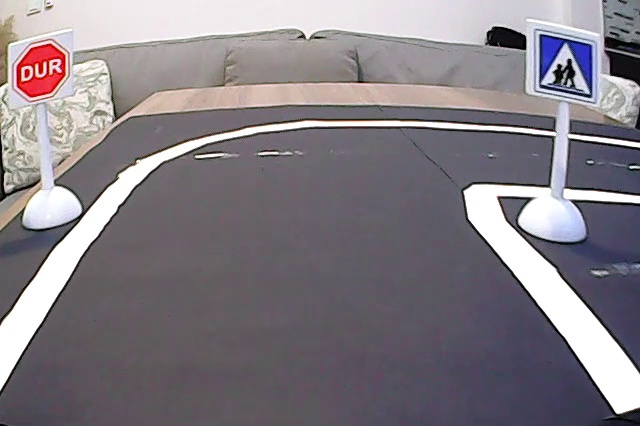school crossing: (531, 27, 598, 105)
stop sign: (12, 39, 73, 106)
